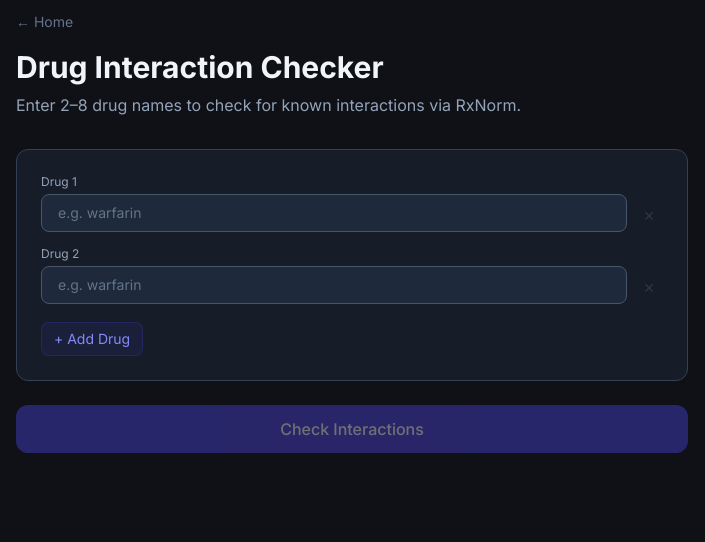
Test: InteractionsClient › removes a drug input when remove button clicked (with 3 drugs)
# Add a third drug
Step 1. Click the button with test id "add-drug-button" → (92, 339), box [41,322,143,356]
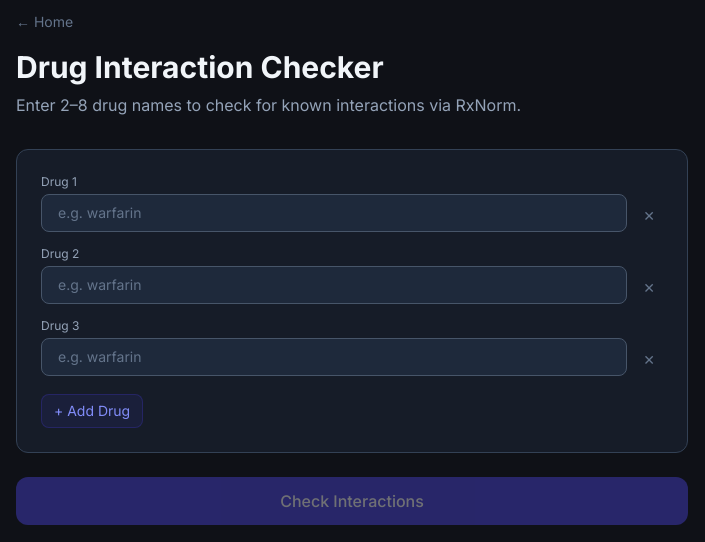
Expected: the field with test id "drug-input-2" is shown, [41,338,627,376]
Expected: the button with test id "remove-drug-2" is enabled
Step 2. Click the button with test id "remove-drug-2" → (649, 360), box [635,342,663,378]
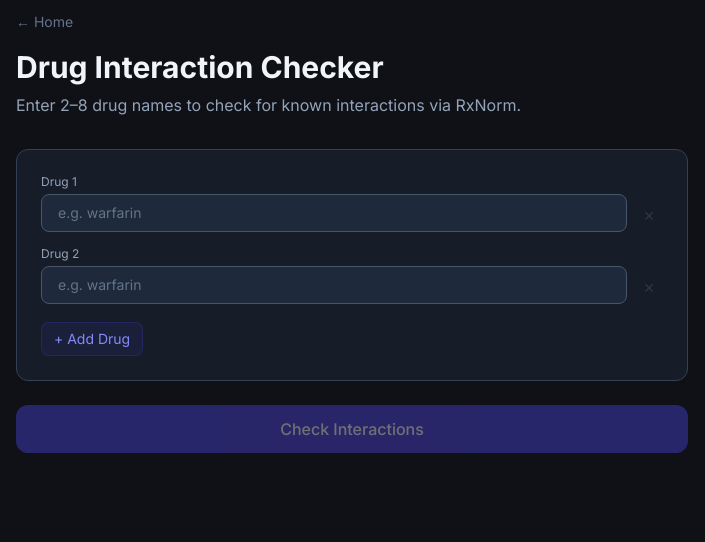
Expected: the field with test id "drug-input-2" is gone
